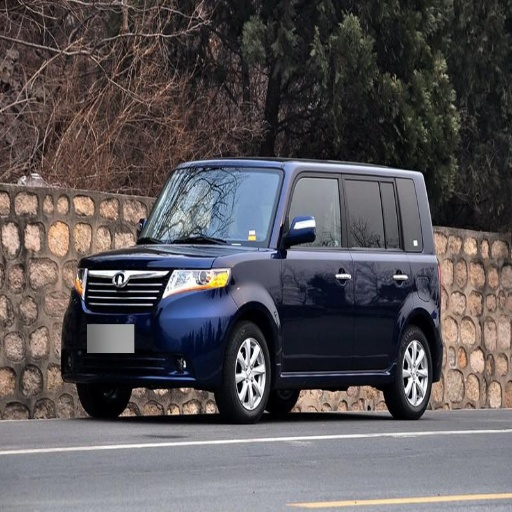front_bumper: (65, 259, 234, 379)
front_glass: (144, 163, 283, 240)
front_left_door: (274, 172, 353, 371)
